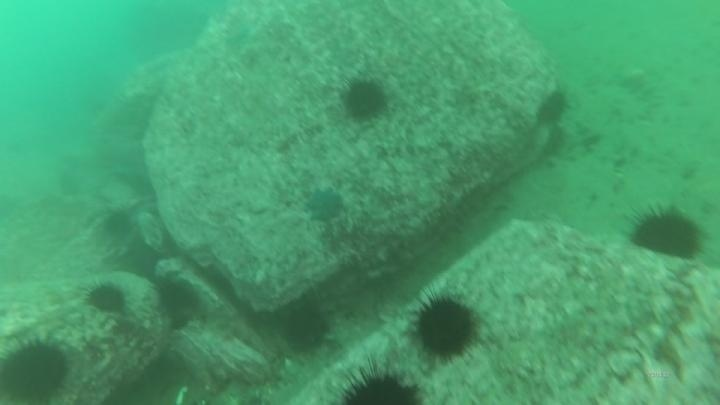echinus: (410, 291, 481, 364), (0, 335, 73, 404), (627, 204, 705, 262), (333, 361, 424, 405), (280, 302, 331, 353), (341, 77, 389, 122), (155, 278, 201, 318), (84, 280, 129, 316), (534, 89, 570, 128), (101, 208, 135, 240)
starfish: (303, 186, 346, 224)
